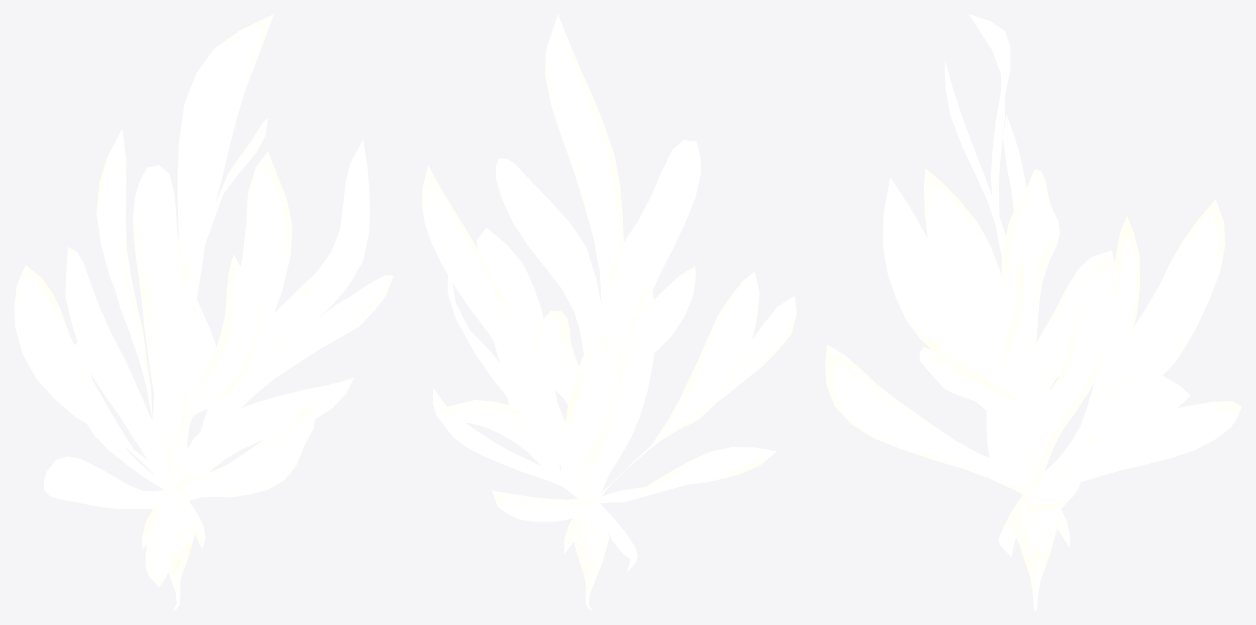
The picture shows the model from 3 angles, left to right: view 1: azimuth 30°, elevation 25°; view 2: azimuth 150°, elevation 25°; view 3: azimuth 270°, elevation 25°; orthographic projection. The views are drawn at different scales.
Visible parts, largest first — view 1: SM_Snapdragon_LOD0; view 2: SM_Snapdragon_LOD0; view 3: SM_Snapdragon_LOD0.
Boxes of the visible parts, left/top/right/bottom form: SM_Snapdragon_LOD0: left=14, top=14, right=393, bottom=610; SM_Snapdragon_LOD0: left=422, top=14, right=796, bottom=610; SM_Snapdragon_LOD0: left=825, top=14, right=1241, bottom=610.
Size of the model in its own units: 0.5807 by 0.9353 by 0.5589.
1 material, 1 textured.
